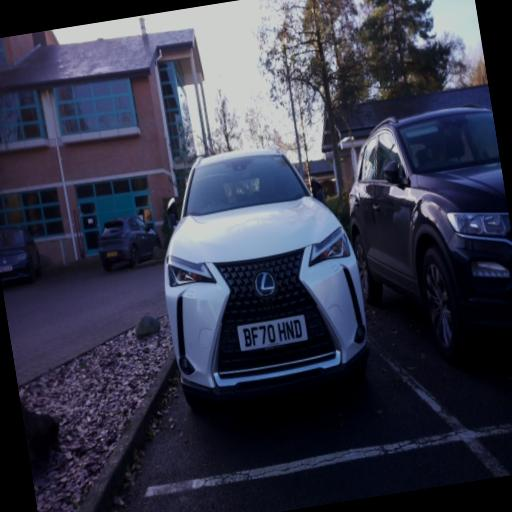numberplates: (235, 313, 309, 353)
